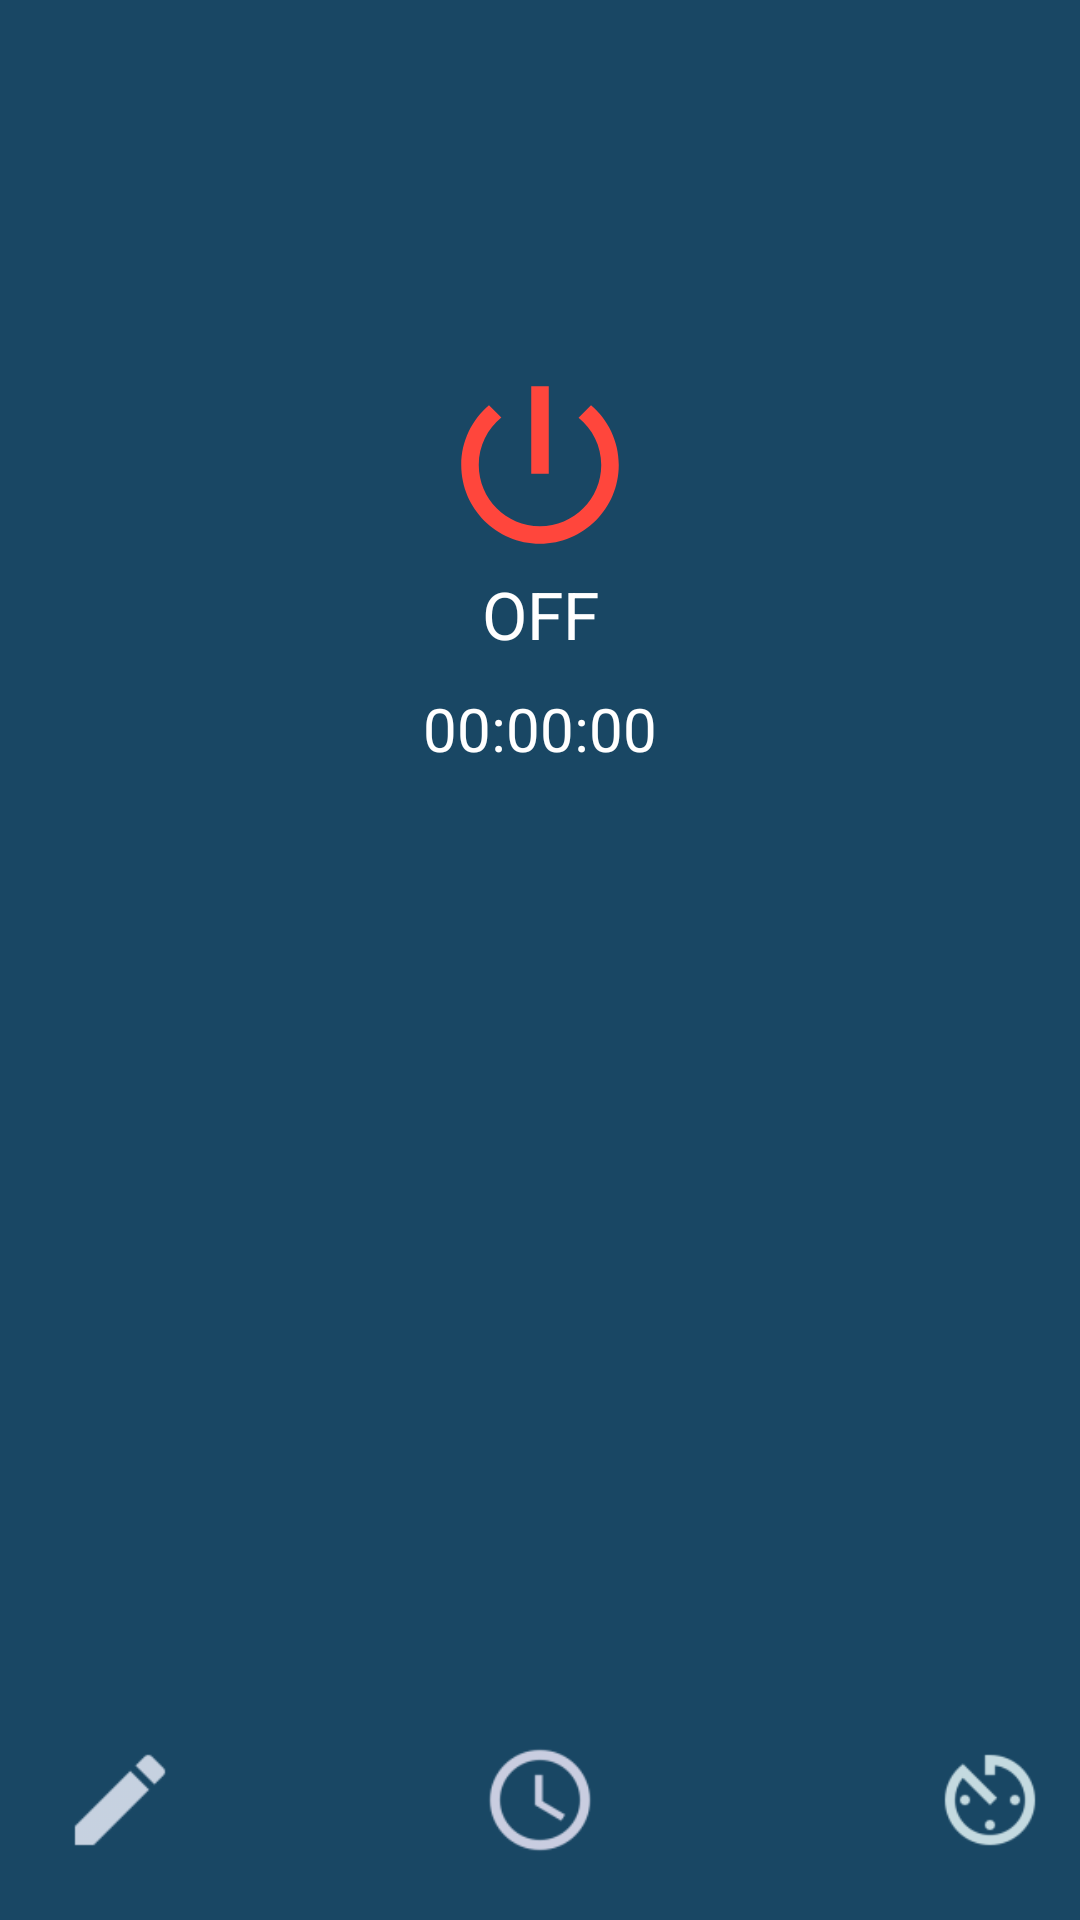

Where to tap for icons on this 1080*1920 app screen, as (x,y):
editlight: (120,1800)
